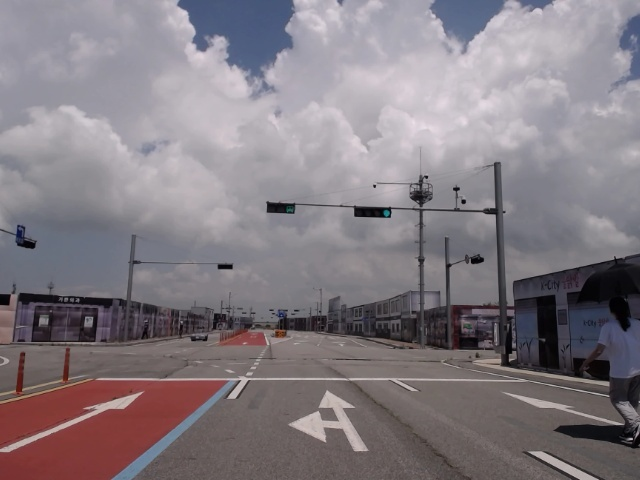straight_green_4: (353, 207, 392, 218)
